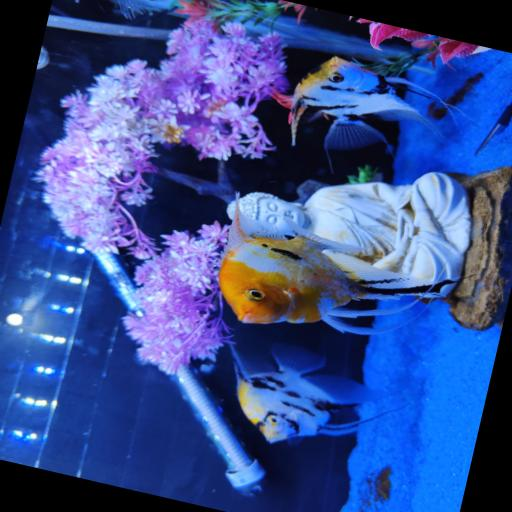Fish: (219, 204, 457, 334), (273, 56, 441, 149), (231, 343, 388, 442), (119, 0, 148, 16)
